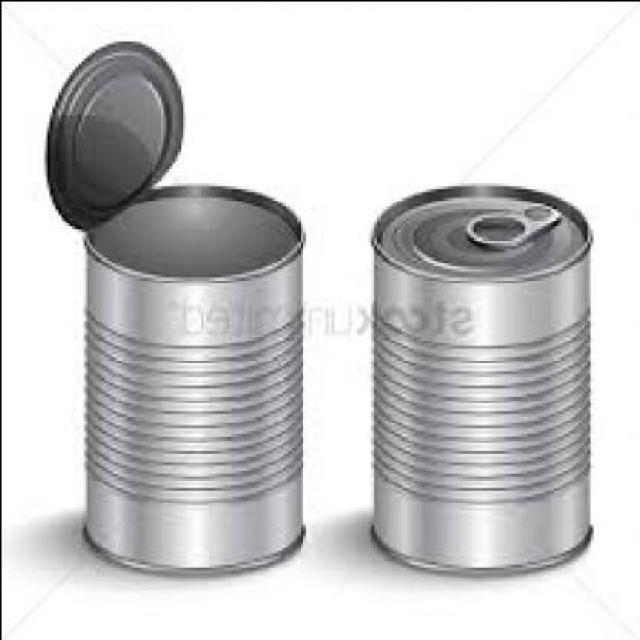METAL: (45, 37, 310, 575), (370, 182, 595, 575)
